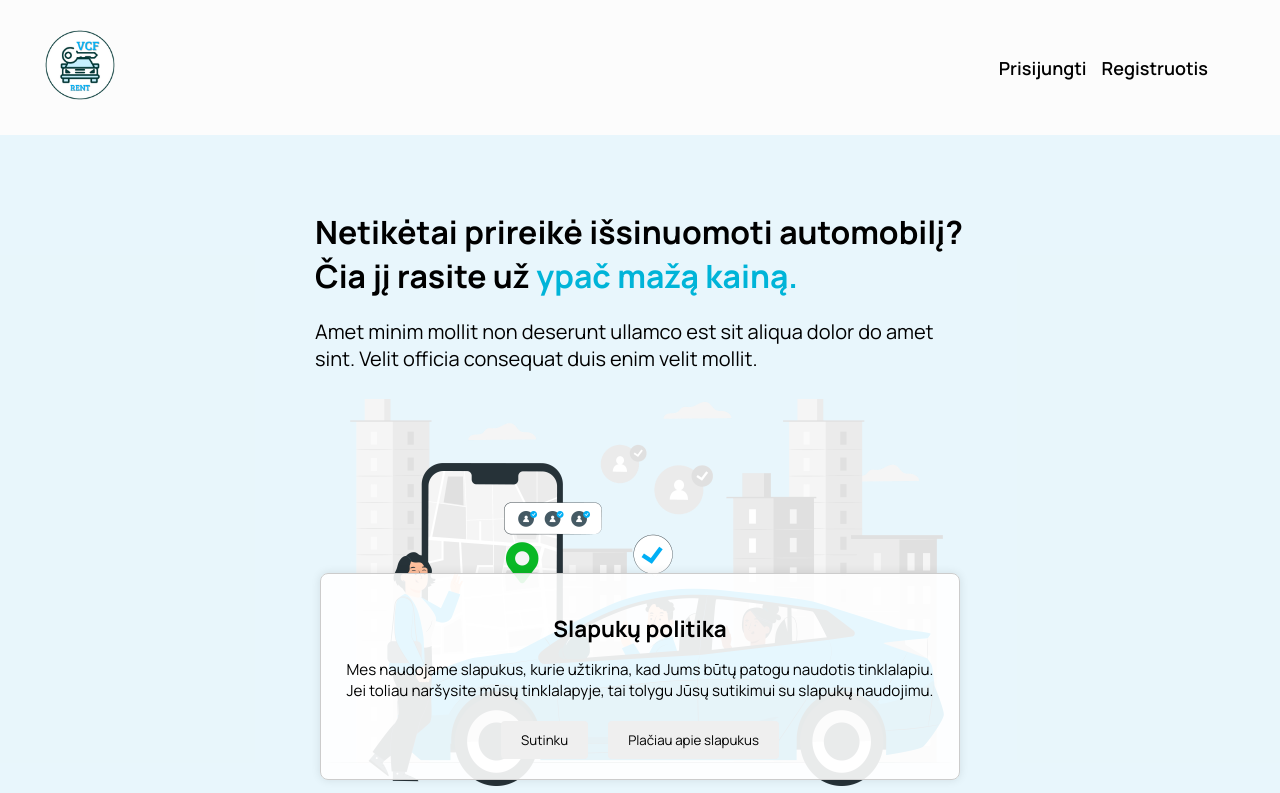
Scenario: testing home page › should close the cookie modal when clicking "Nesutinku" button
Step 1. Click the button "Plačiau apie slapukus" → {"x": 694, "y": 740}, box [608,721,779,759]
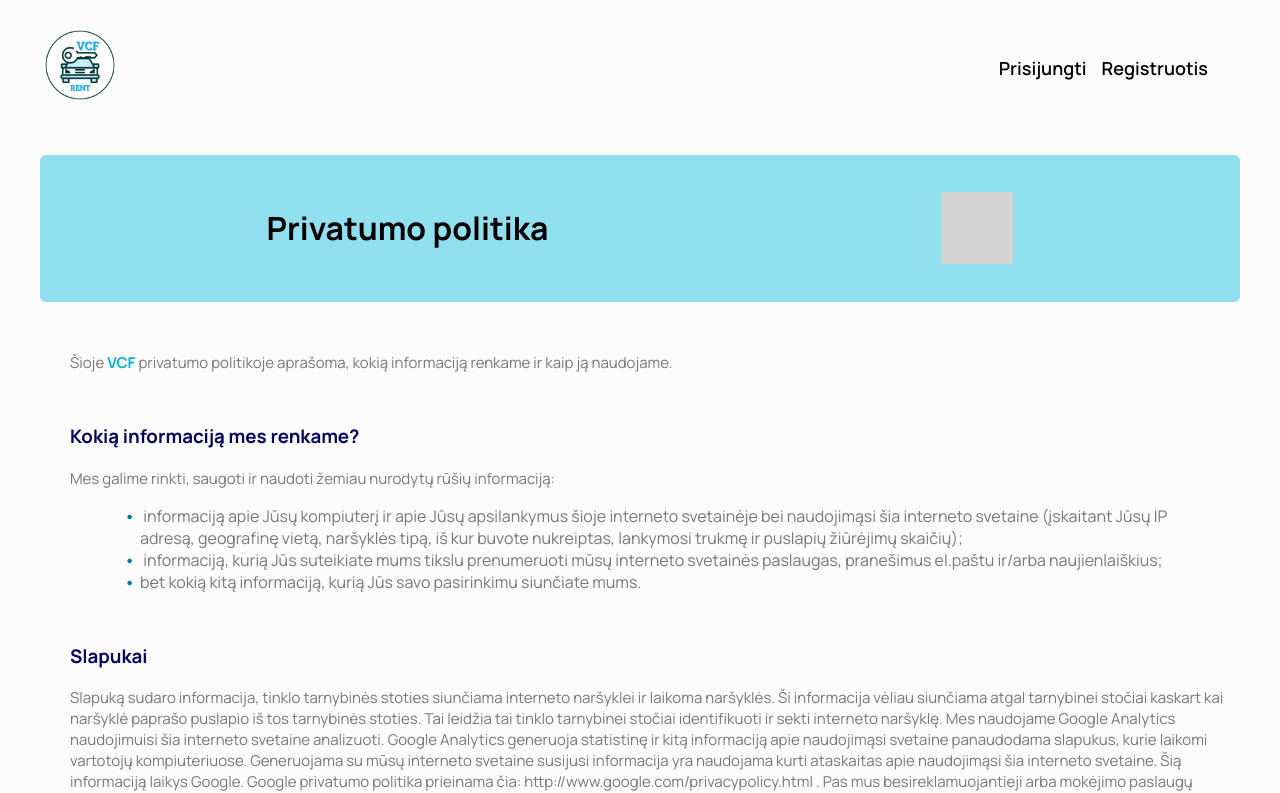
Now the element with class "show" is gone
